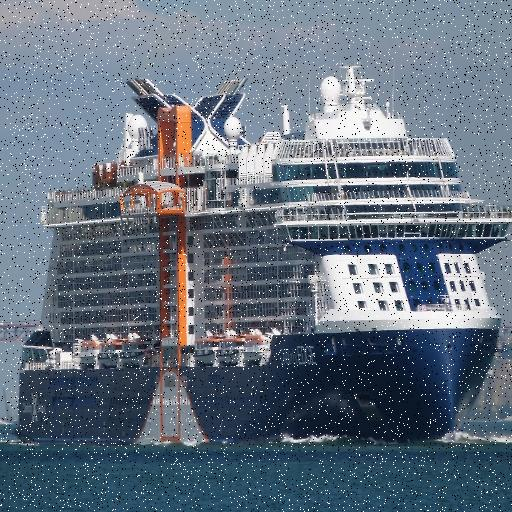cruises: (10, 44, 512, 455)
